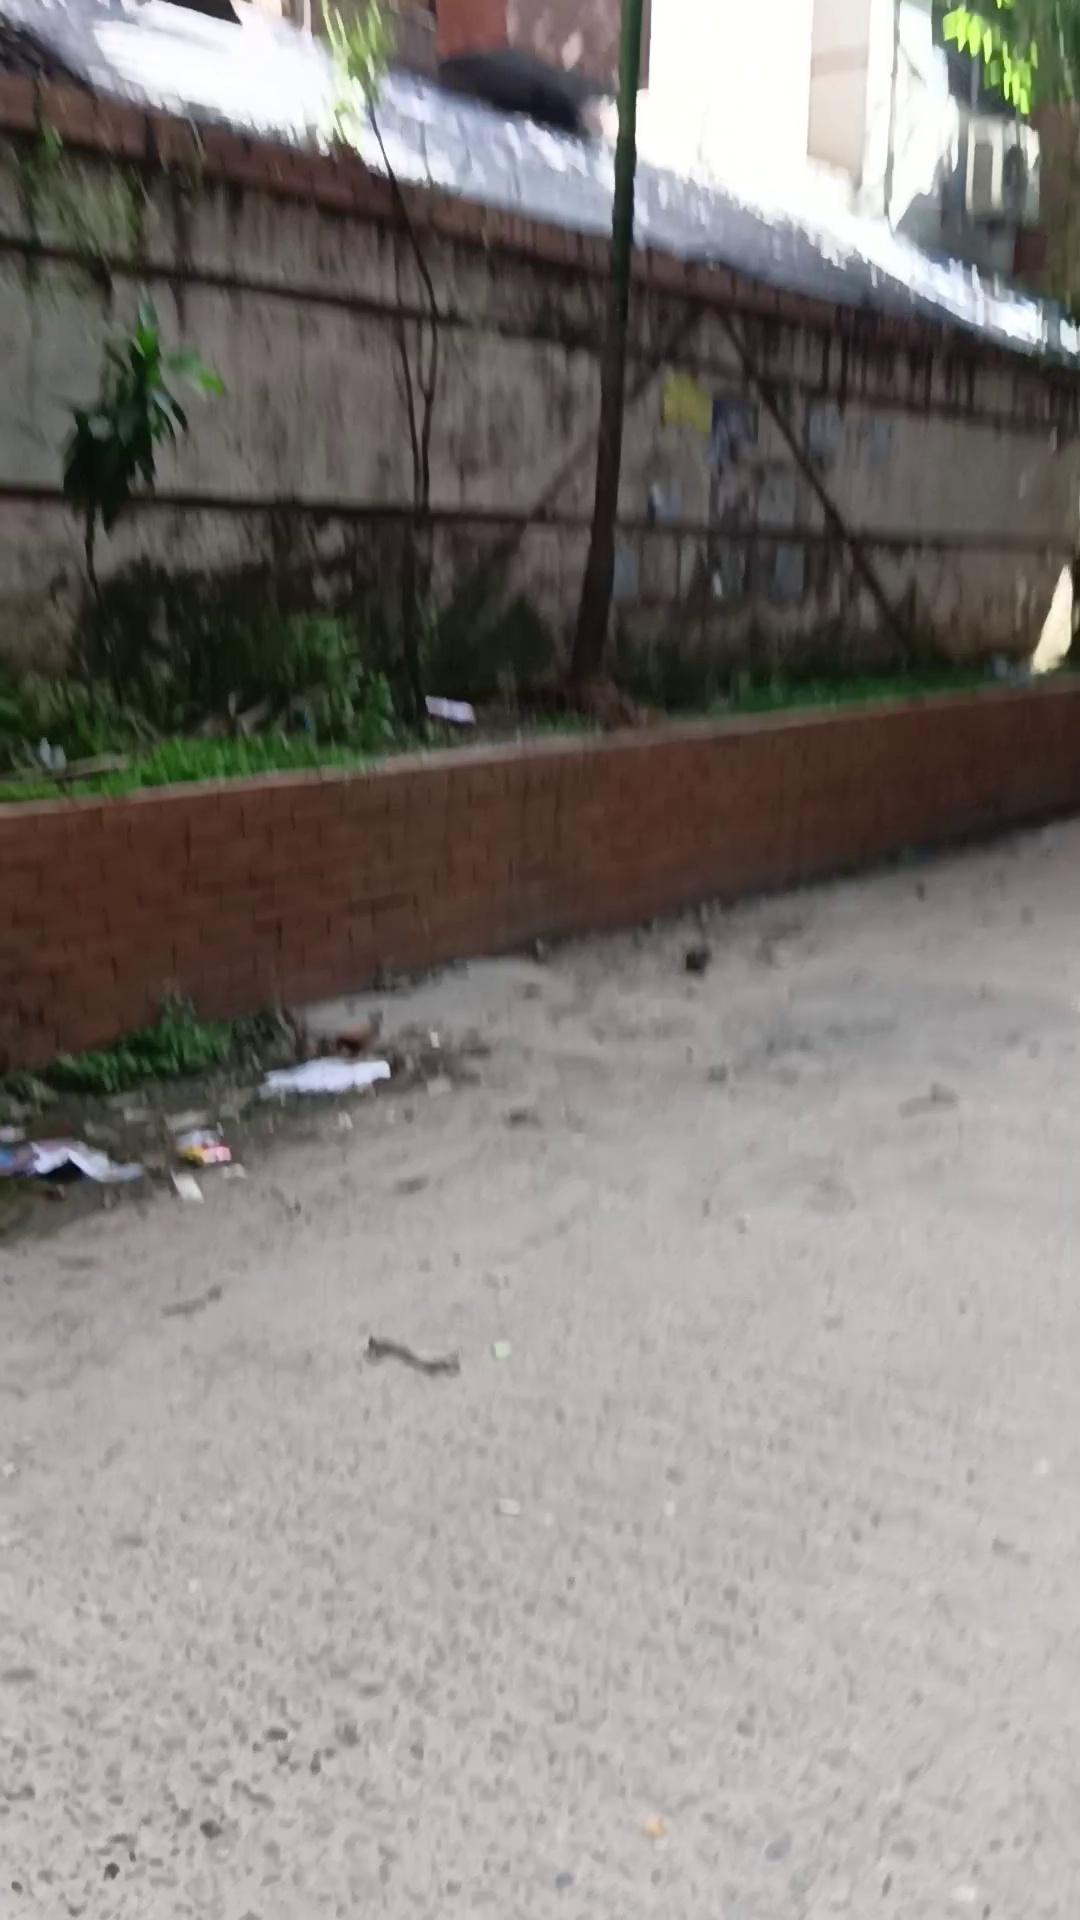Tree: (3, 669, 1076, 1080)
